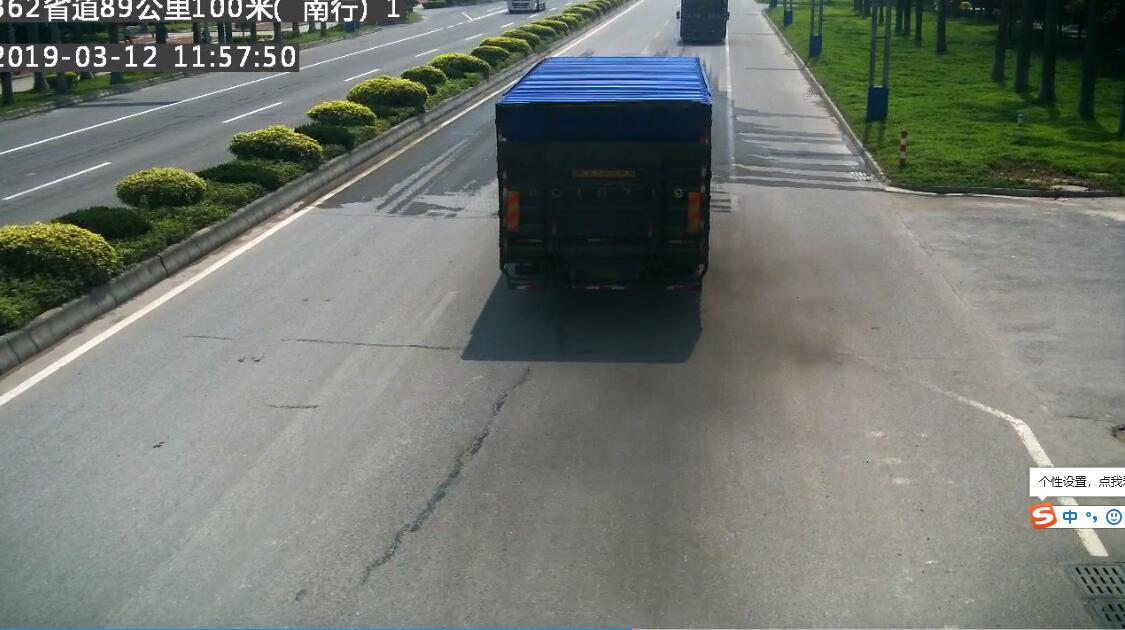yanwu: (701, 239, 819, 363)
